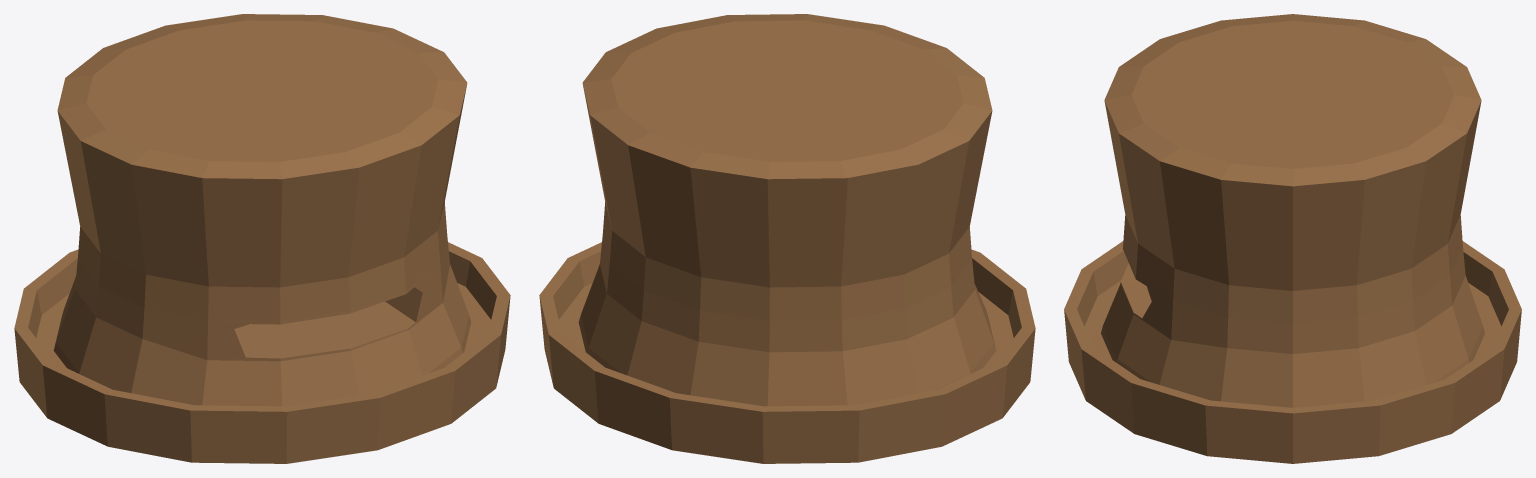
The model's file is cocus_pocus.glb.
3 views of the same model, side by side, from view 1: azimuth 30°, elevation 25°; view 2: azimuth 150°, elevation 25°; view 3: azimuth 270°, elevation 25° (orthographic). The views are drawn at different scales.
Visible parts, largest first — view 1: CocusPocus; view 2: CocusPocus; view 3: CocusPocus.
Part boxes in pixels (x1=…): CocusPocus: x1=14, y1=14, x2=510, y2=463; CocusPocus: x1=539, y1=14, x2=1035, y2=463; CocusPocus: x1=1064, y1=14, x2=1521, y2=463.
Bounding box in the file's own units: 0.8548 × 0.5105 × 0.7935.
1 material, 1 textured.
